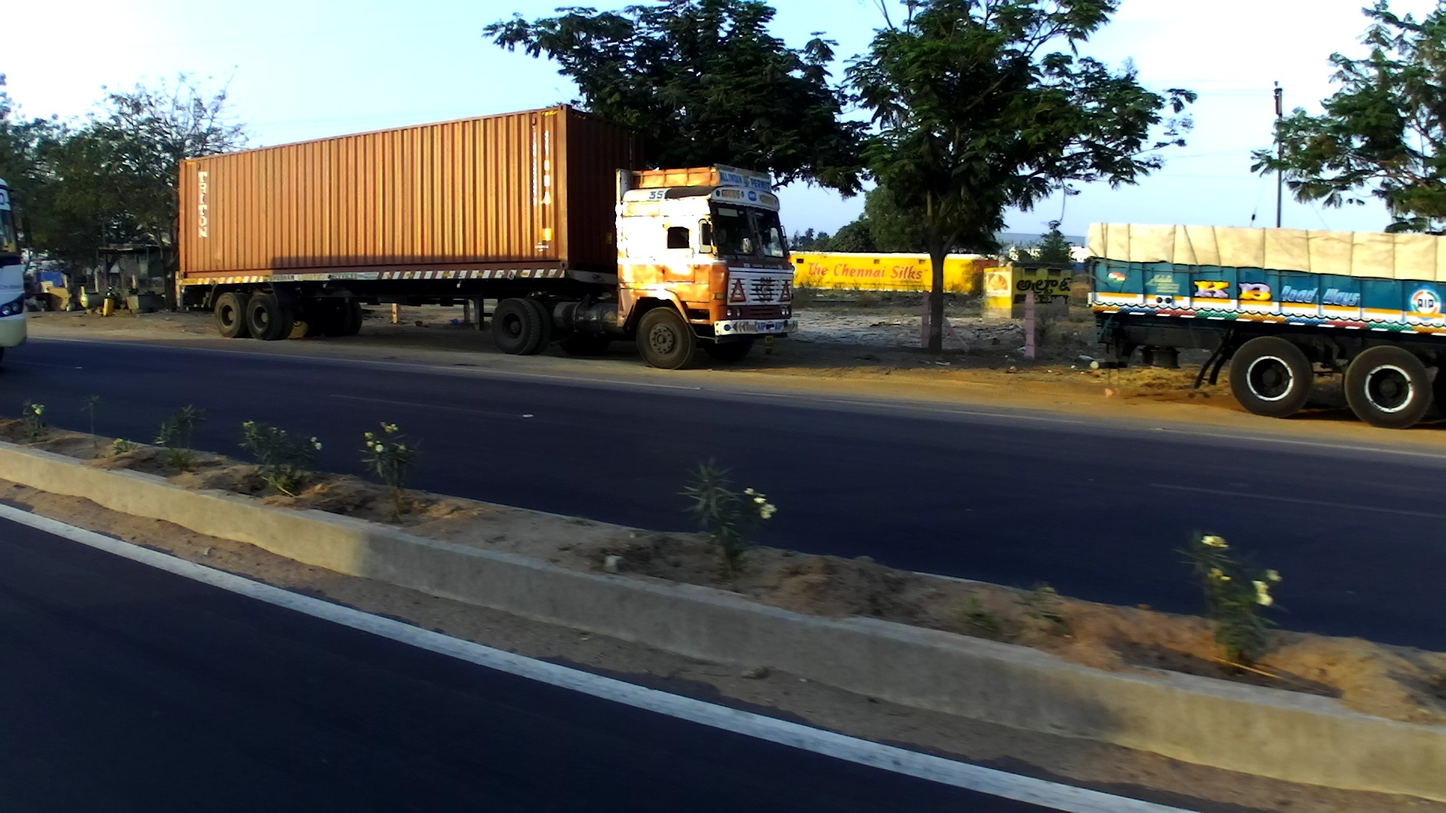truck: (177, 102, 795, 371), (1083, 214, 1444, 428), (1, 178, 27, 358)
